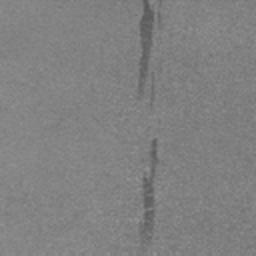Red iron sheet: (137, 0, 164, 102), (140, 137, 160, 255)
